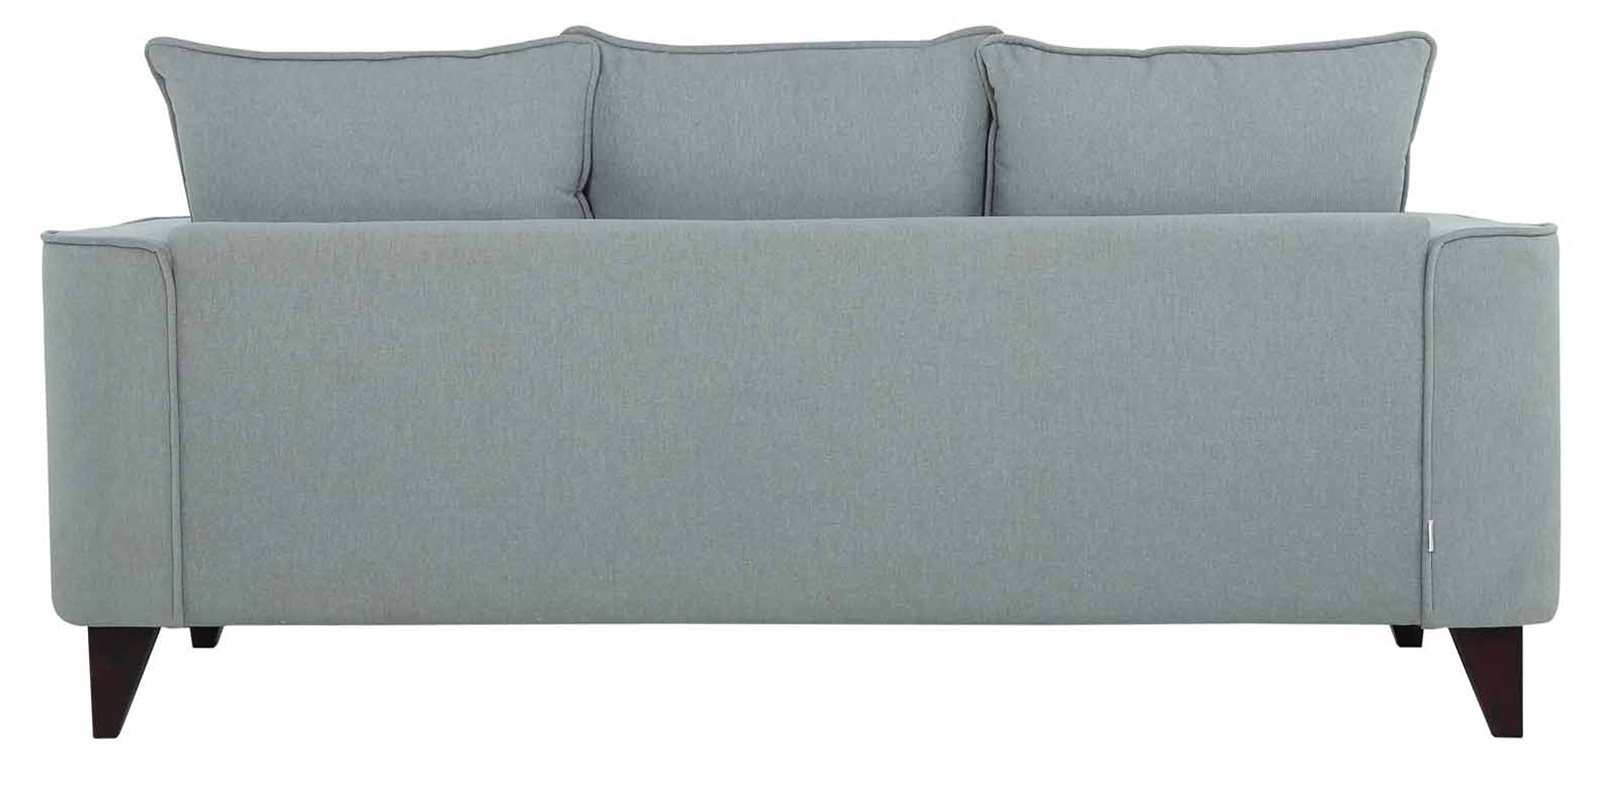Lara Three Seater Sofa in Ash Grey Colour by CasaCraft: (43, 23, 1564, 739)
